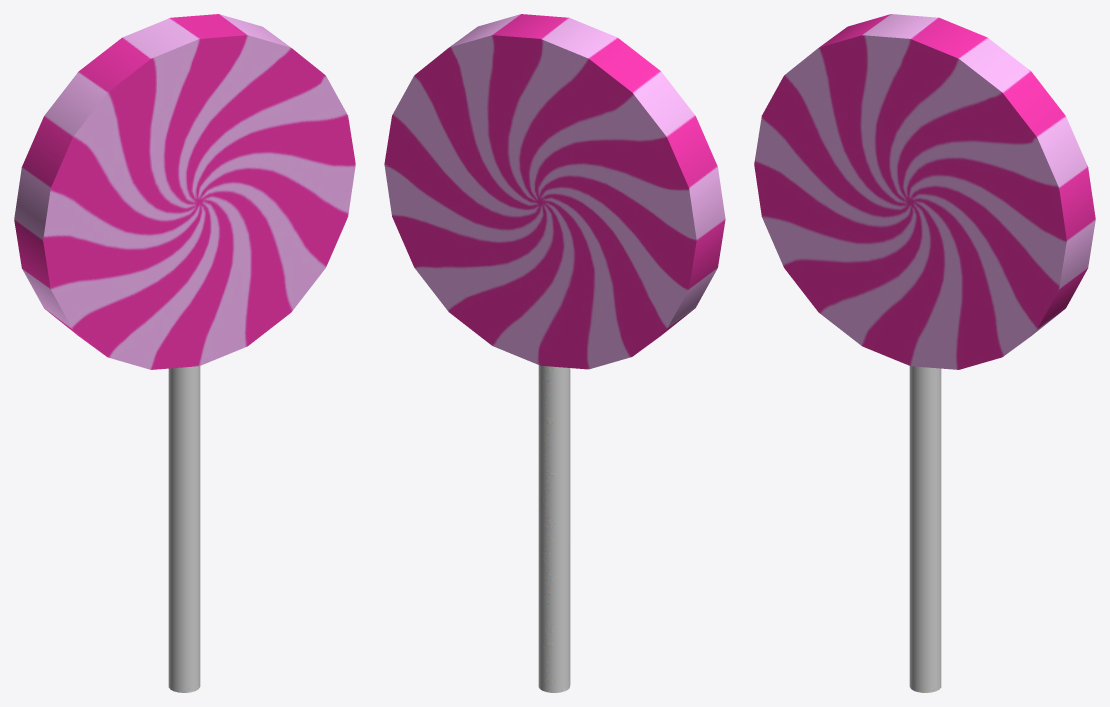
File: lollypop.fbx
3 views of the same model, side by side, from view 1: azimuth 30°, elevation 25°; view 2: azimuth 150°, elevation 25°; view 3: azimuth 330°, elevation 25° (orthographic).
Parts seen in each view (by area): view 1: rock_candy:lollypop; view 2: rock_candy:lollypop; view 3: rock_candy:lollypop.
Boxes of the visible parts, x1,y1,x2,y2 form: rock_candy:lollypop: [14, 14, 355, 692]; rock_candy:lollypop: [384, 14, 725, 692]; rock_candy:lollypop: [754, 14, 1095, 692].
Bounding box in the file's own units: 12.06 × 24.27 × 1.93.
1 material, 1 textured.
